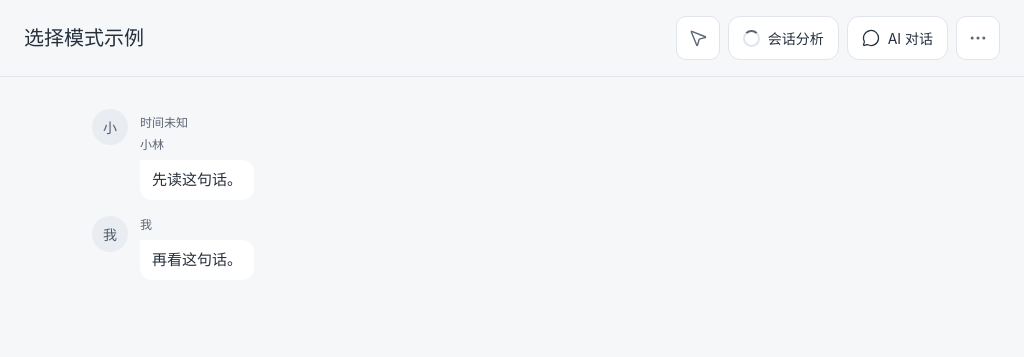
Scenario: 阅读与消息选择模式 › 编辑问题时 Escape 不改变消息选择模式或草稿
This screenshot has width=1024, height=357.
Click the button named "选择消息": (698, 38) x1=676 y1=16 x2=720 y2=60
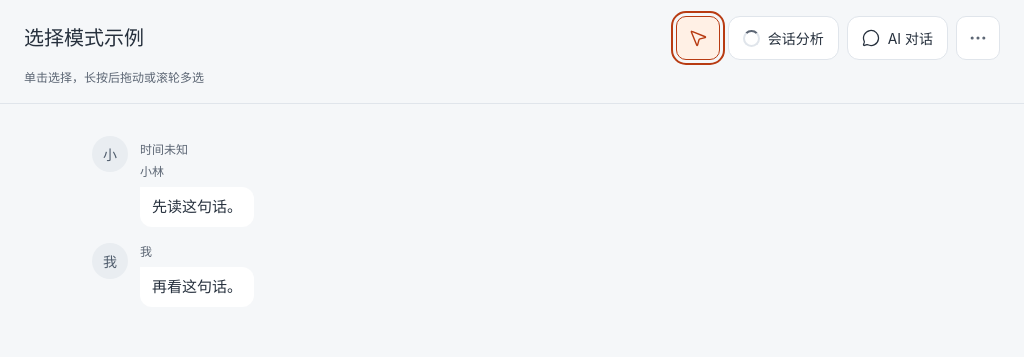
Click the button "AI 对话": (897, 38) x1=847 y1=16 x2=948 y2=60
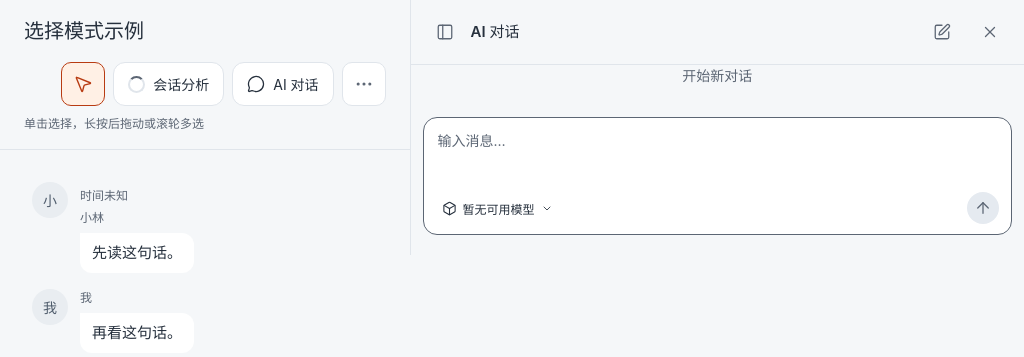
In the text box: (717, 156) x1=436 y1=128 x2=999 y2=184, type "正在编辑的问题"
Then press Escape
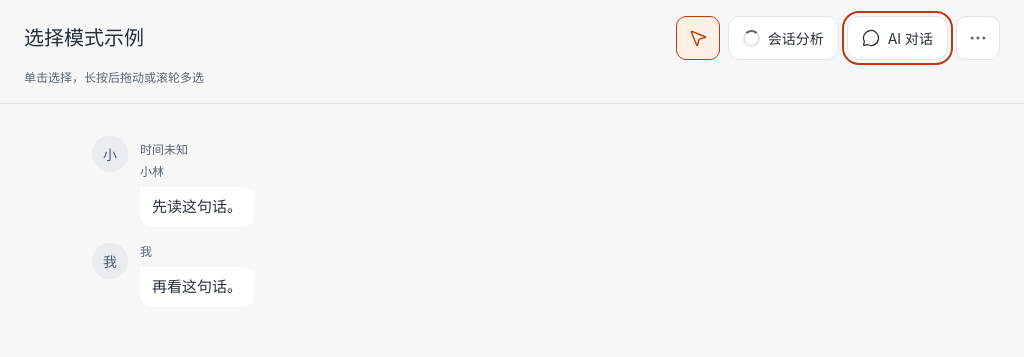
Expected: the button named "退出选择" is shown, x1=676 y1=16 x2=720 y2=60
Click the button "AI 对话": (897, 38) x1=847 y1=16 x2=948 y2=60
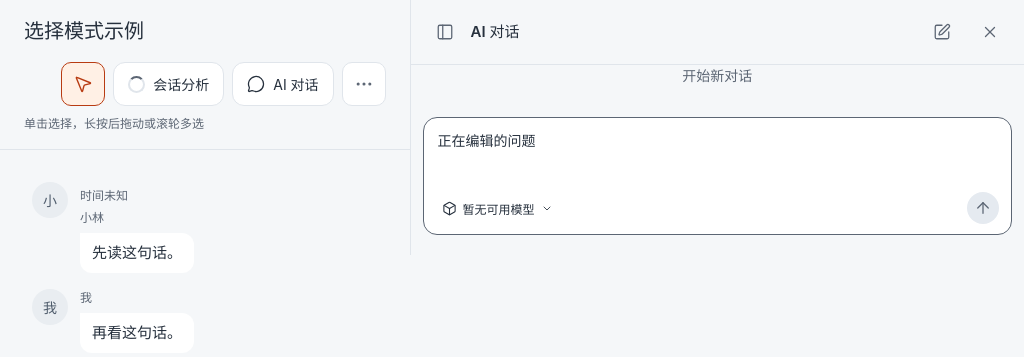
Expected: the text box holds "正在编辑的问题", x1=436 y1=128 x2=999 y2=184
